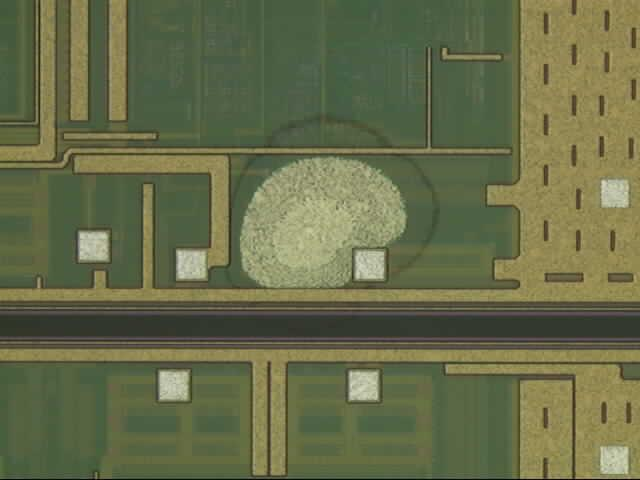BLOCK ETCH: (218, 110, 446, 333)
